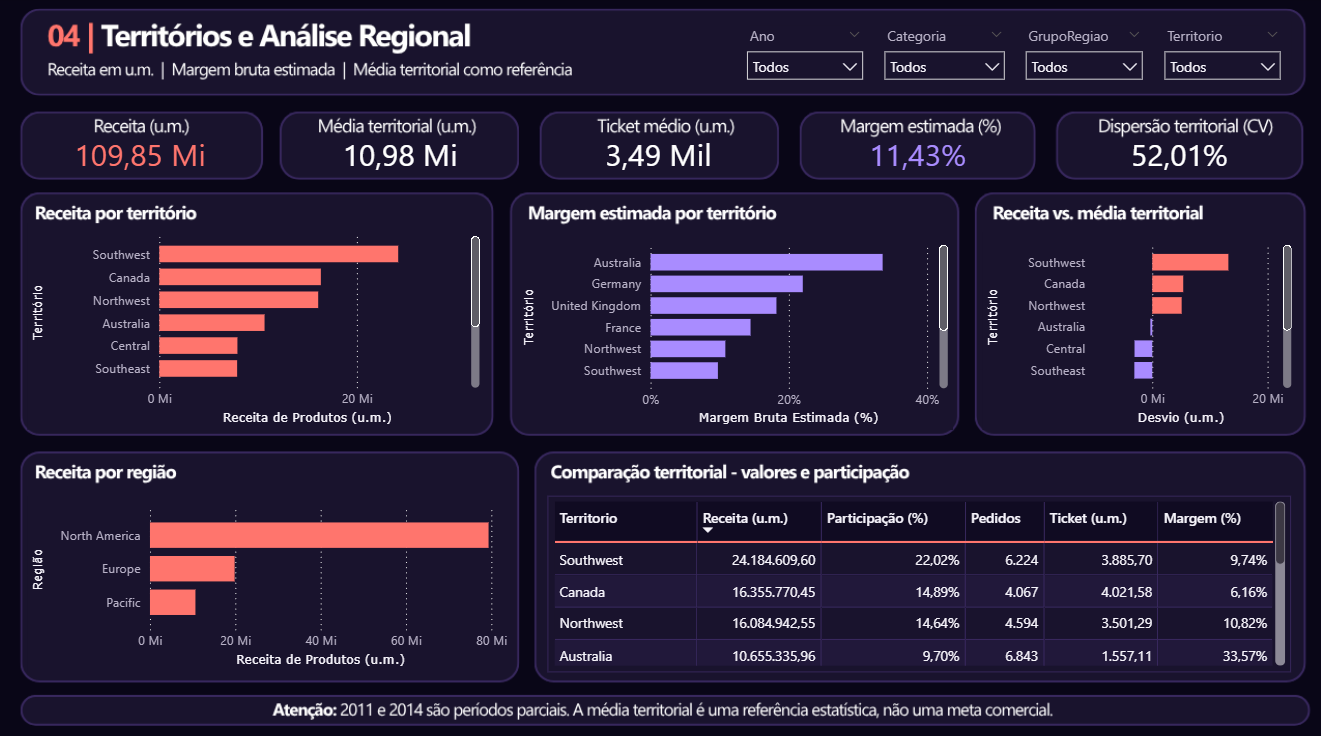

Layout of this report page (visuals, bound fields, positions):
{"tool":"powerbi","page":{"name":"04 | Territórios e Análise Regional","canvas":[1280,720],"ordinal":3},"visuals":[{"type":"slicer","fields":{"Values":["DimTerritorio.GrupoRegiao"]},"box":[980,23.2,133.3,64.4],"z":0},{"type":"slicer","fields":{"Values":["DimCalendario.Ano"]},"box":[711.1,23.2,132.2,64.4],"z":1000},{"type":"slicer","fields":{"Values":["DimTerritorio.Territorio"]},"box":[1113.5,23.2,132.7,65.1],"z":2000},{"type":"slicer","fields":{"Values":["DimProduto.Categoria"]},"box":[843.3,23.2,136.7,64.4],"z":3000},{"type":"card","title":"Receita (u.m.)","fields":{"Values":["Medidas.Receita de Produtos"]},"box":[17.3,131.8,237.3,42.7],"z":4000},{"type":"card","title":"Média territorial (u.m.)","fields":{"Values":["Medidas.Receita Média Território"]},"box":[270.9,130.9,230,42.7],"z":5000},{"type":"card","title":"Ticket (u.m.)","fields":{"Values":["Medidas.Ticket Médio"]},"box":[520.9,130.9,229.1,42.7],"z":6000},{"type":"card","title":"Margem estimada %","fields":{"Values":["Medidas.Margem Bruta Estimada %"]},"box":[774.5,130.9,222.7,42.7],"z":7000},{"type":"card","title":"Dispersão territorial (CV)","fields":{"Values":["Medidas.Coeficiente Variação Território"]},"box":[1020,130.9,238.2,42.7],"z":8000},{"type":"barChart","title":"Receita por território","fields":{"Category":["DimTerritorio.Territorio"],"Y":["Medidas.Receita de Produtos"]},"box":[26.4,218.6,441.4,199.3],"z":10000},{"type":"barChart","title":"Receita por região","fields":{"Category":["DimTerritorio.GrupoRegiao"],"Y":["Medidas.Receita de Produtos"]},"box":[26.4,481.4,467.9,170],"z":11000},{"type":"barChart","title":"Receita: diferença para a média","fields":{"Y":["Medidas.Desvio Receita Território vs Média"],"Category":["DimTerritorio.Territorio"]},"box":[947.8,226.7,303.3,191.1],"z":12000},{"type":"tableEx","title":"Comparação territorial — valores e participação","fields":{"Values":["DimTerritorio.Territorio","Medidas.Receita de Produtos","Medidas.Participação Receita Território %","Medidas.Pedidos","Medidas.Ticket Médio","Medidas.Margem Bruta Estimada %"]},"box":[527.9,481.4,717.9,170],"z":13000},{"type":"barChart","title":"Margem estimada por território","fields":{"Category":["DimTerritorio.Territorio"],"Y":["Medidas.Margem Bruta Estimada %"]},"box":[500.7,226.4,419.3,191.4],"z":14000}]}

Visuals, with their boxes in screenshot pixels (x1, y1, x2, y2), scaled from the page's 1280x720 canvas onto the 1321x736 screenshot:
slicer - DimTerritorio.GrupoRegiao: crop(1011, 24, 1149, 90)
slicer - DimCalendario.Ano: crop(734, 24, 870, 90)
slicer - DimTerritorio.Territorio: crop(1149, 24, 1286, 90)
slicer - DimProduto.Categoria: crop(870, 24, 1011, 90)
"Receita (u.m.)" card: crop(18, 135, 263, 178)
"Média territorial (u.m.)" card: crop(280, 134, 517, 177)
"Ticket (u.m.)" card: crop(538, 134, 774, 177)
"Margem estimada %" card: crop(799, 134, 1029, 177)
"Dispersão territorial (CV)" card: crop(1053, 134, 1299, 177)
"Receita por território" barChart: crop(27, 223, 483, 427)
"Receita por região" barChart: crop(27, 492, 510, 666)
"Receita: diferença para a média" barChart: crop(978, 232, 1291, 427)
"Comparação territorial — valores e participação" tableEx: crop(545, 492, 1286, 666)
"Margem estimada por território" barChart: crop(517, 231, 949, 427)
